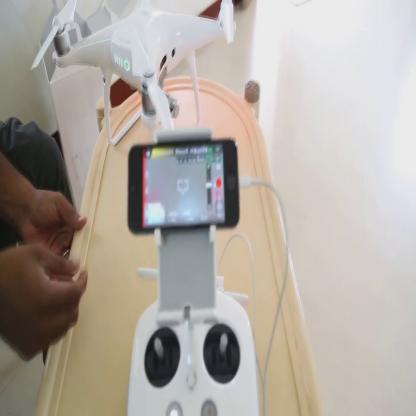drone: (29, 0, 243, 174)
